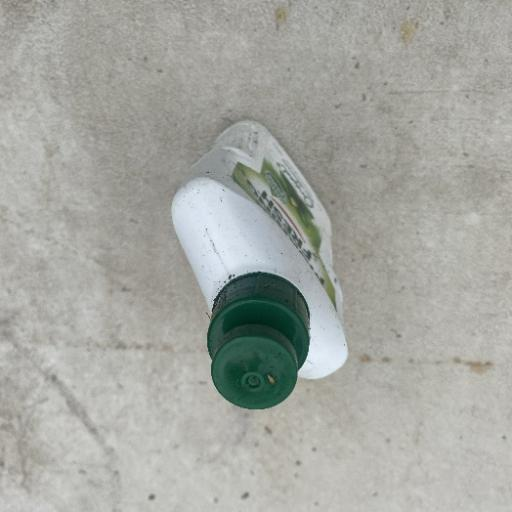Plastic: (167, 118, 351, 412)
